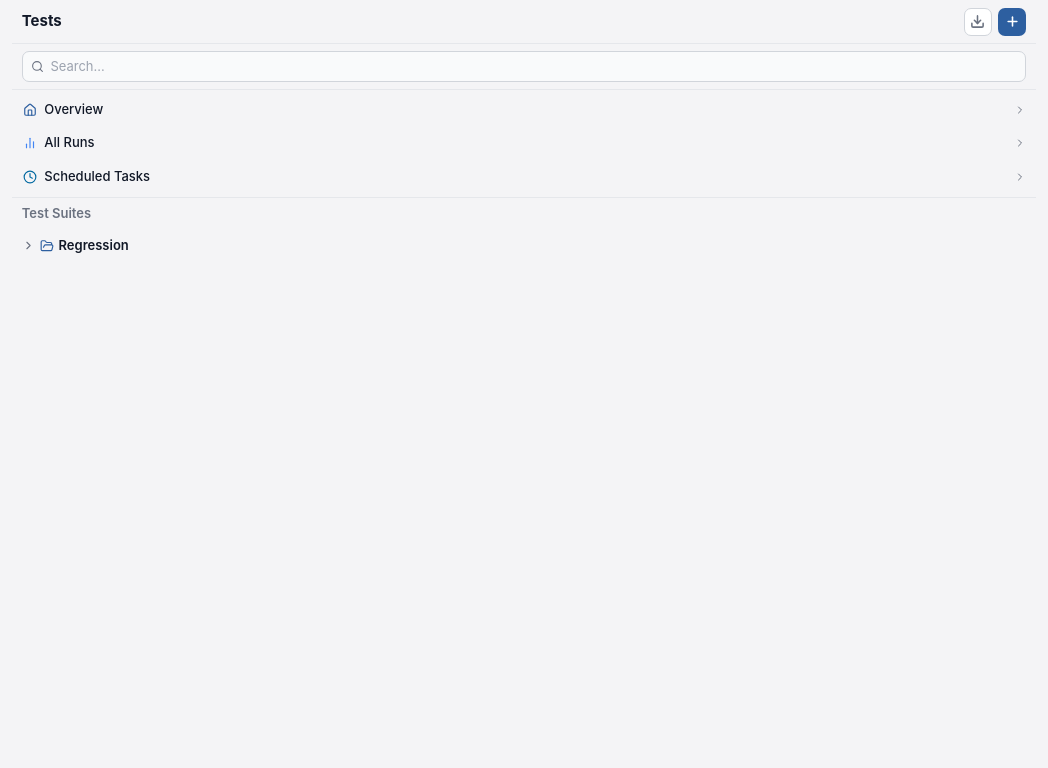
Test: Tests panel context menu (issue #58) › flips a suite menu opened near the bottom-right corner back inside the window
This screenshot has width=1048, height=768.
Right-click the element with test id "suite-row" at (75, 245), box [22,237,129,253]
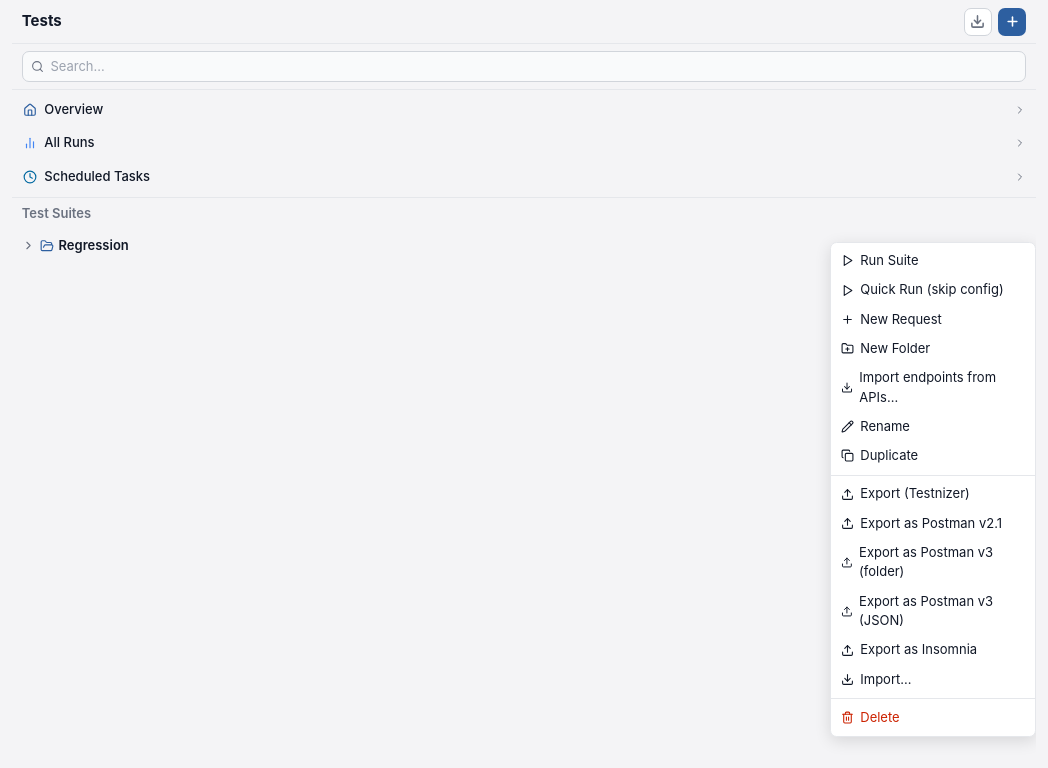
Expected: the element that starts with "Run Suite" is shown, [830,242,1036,736]
